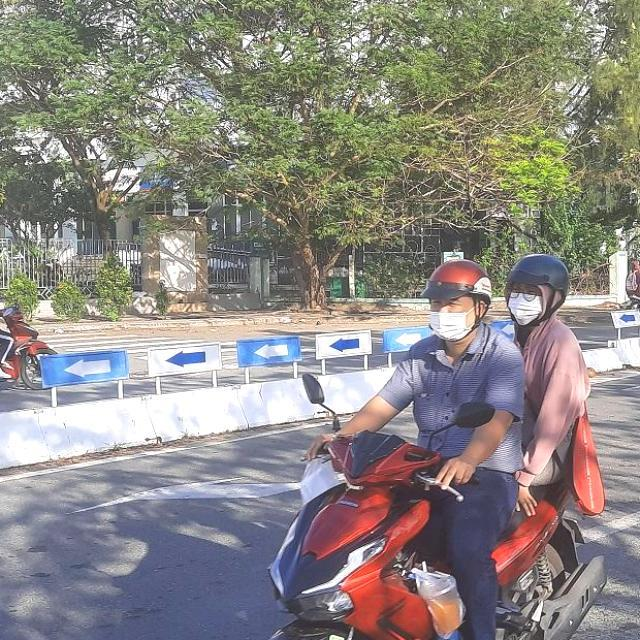Helmet: (422, 259, 493, 344), (507, 254, 578, 330)
